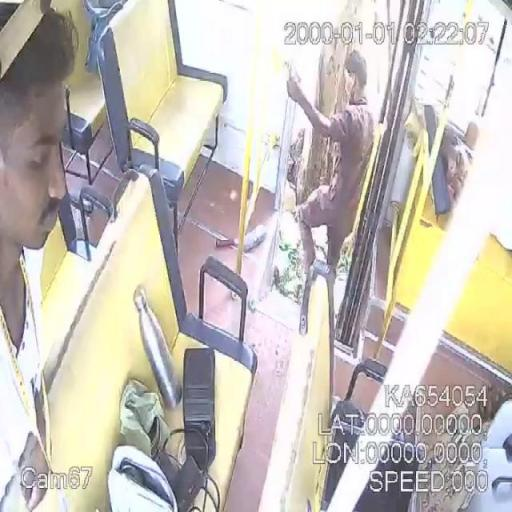persona: (0, 1, 80, 511), (284, 48, 376, 284)
